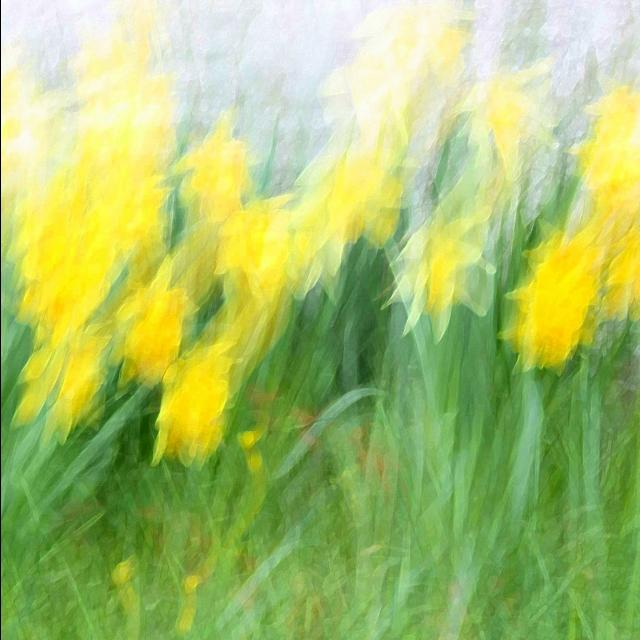Flower: (0, 6, 638, 468)
